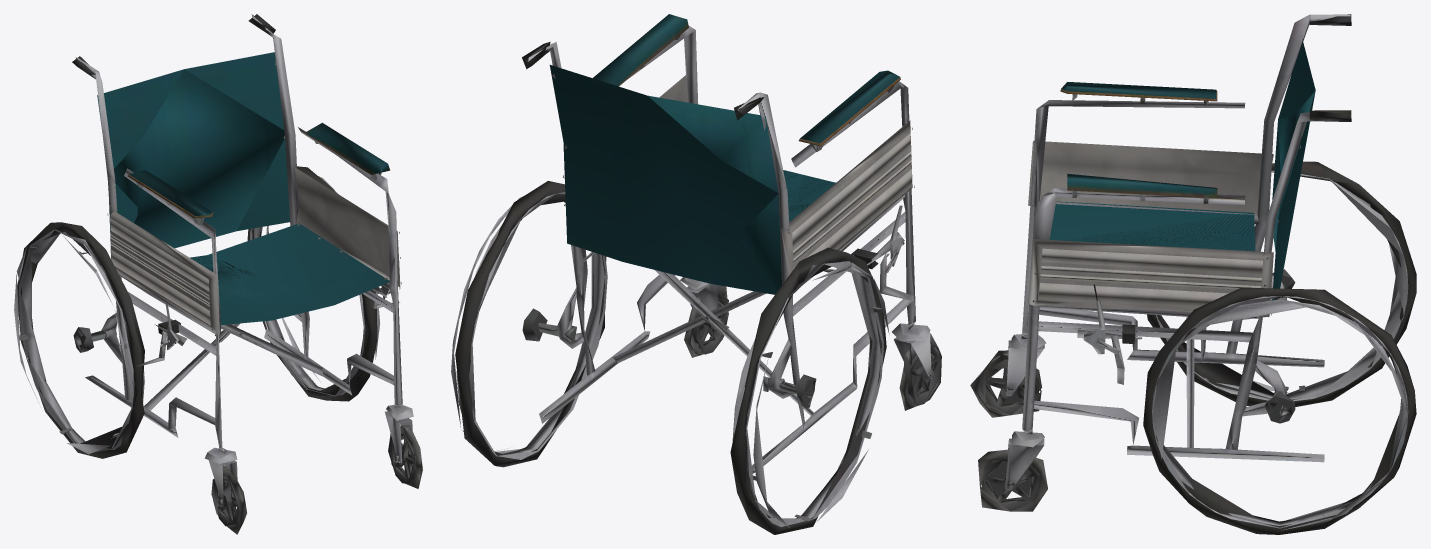
The model's file is scene-wheelchair.glb.
3 renders of one model, left to right at view 1: azimuth 30°, elevation 25°; view 2: azimuth 150°, elevation 25°; view 3: azimuth 270°, elevation 25°, orthographic. The views are drawn at different scales.
Parts seen in each view (by area): view 1: wheelchair_01; view 2: wheelchair_01; view 3: wheelchair_01.
Part boxes in pixels (x1,y1,x2,y2): wheelchair_01: (14, 14, 422, 534); wheelchair_01: (451, 14, 941, 534); wheelchair_01: (970, 14, 1416, 534).
Size of the model in its own units: 0.8241 by 1.1 by 1.09.
1 material, 1 textured.
